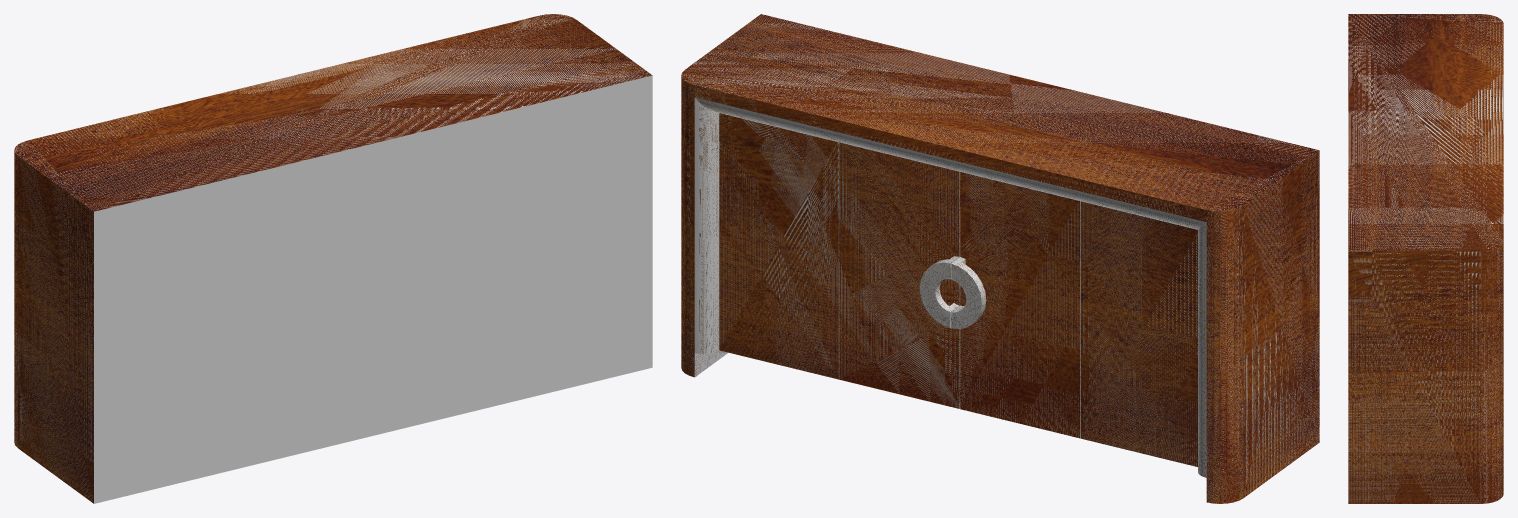
3 renders of one model, left to right at view 1: azimuth 30°, elevation 25°; view 2: azimuth 150°, elevation 25°; view 3: azimuth 270°, elevation 25°, orthographic. The views are drawn at different scales.
Visible parts, largest first — view 1: mesh1_mesh1-geometry; view 2: mesh1_mesh1-geometry; view 3: mesh1_mesh1-geometry.
Part boxes in pixels (x1,y1,x2,y2): mesh1_mesh1-geometry: (14,14,652,503); mesh1_mesh1-geometry: (681,14,1319,503); mesh1_mesh1-geometry: (1348,14,1503,503).
Size of the model in its own units: 0.868 by 0.434 by 0.2411.
